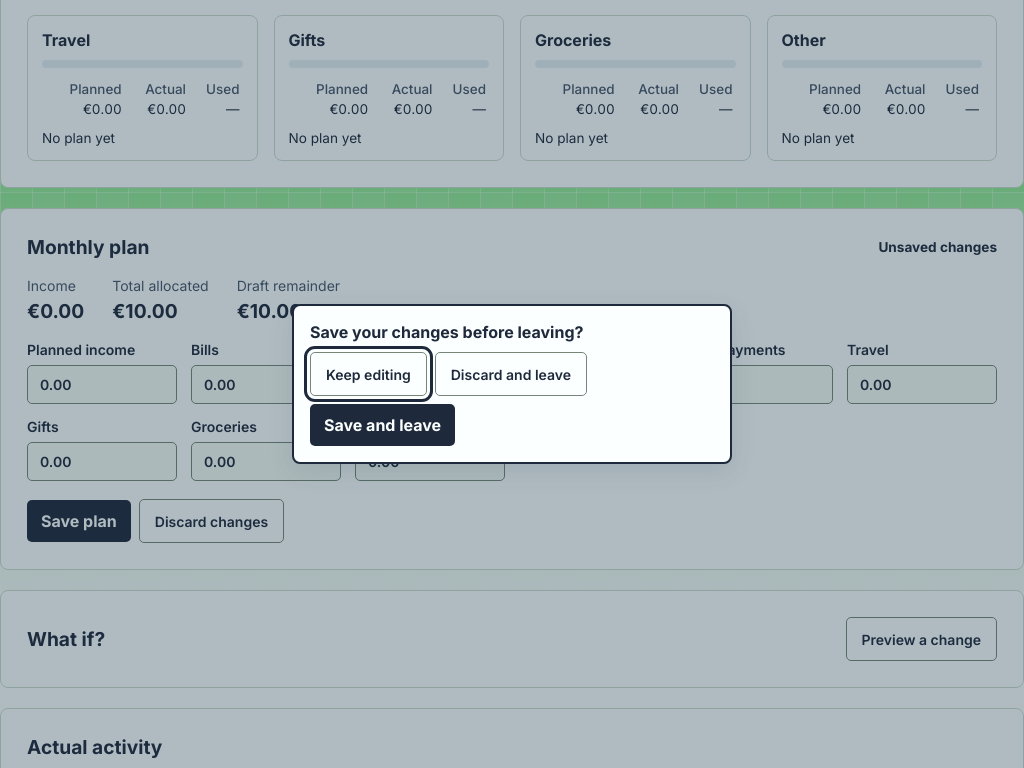
browser Back can keep a draft or discard it and restore the original history entry
The width and height of the screenshot is (1024, 768).
Earlier steps of the test are not shown.
Later steps or results of the test are not shown.
(page scrolled)
Click the button "Discard and leave".
click(511, 374)  # box top-left (435, 352), bottom-right (587, 396)
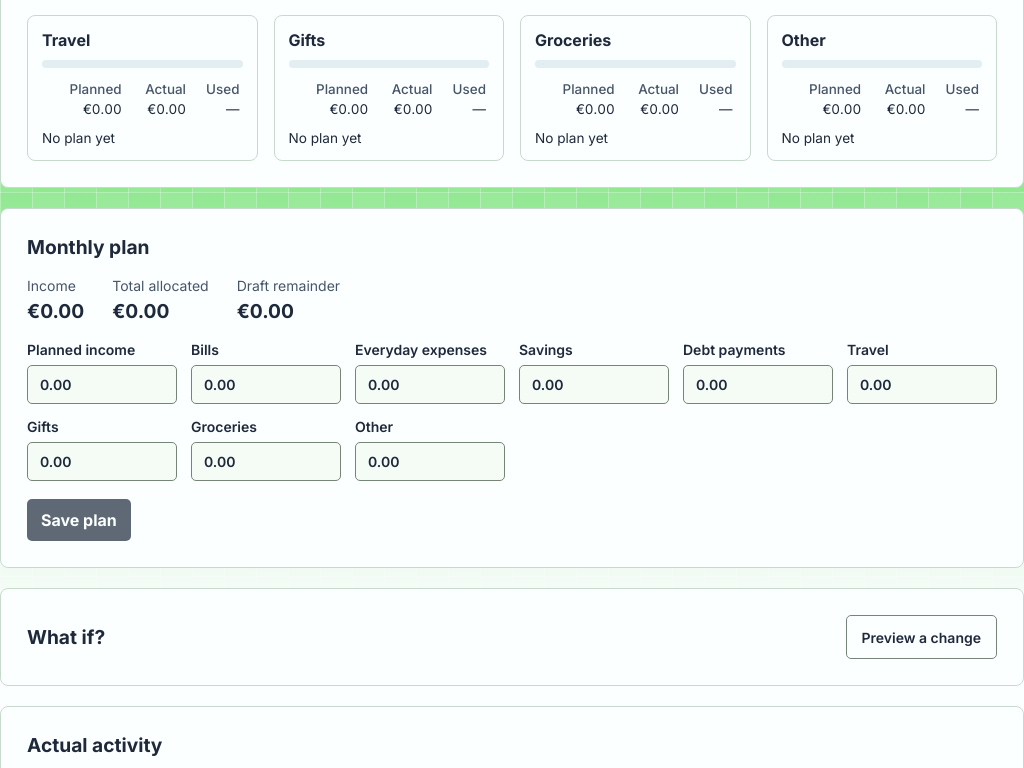
Now the field labelled "Savings" holds "0.00", box top-left (519, 365), bottom-right (669, 404)
